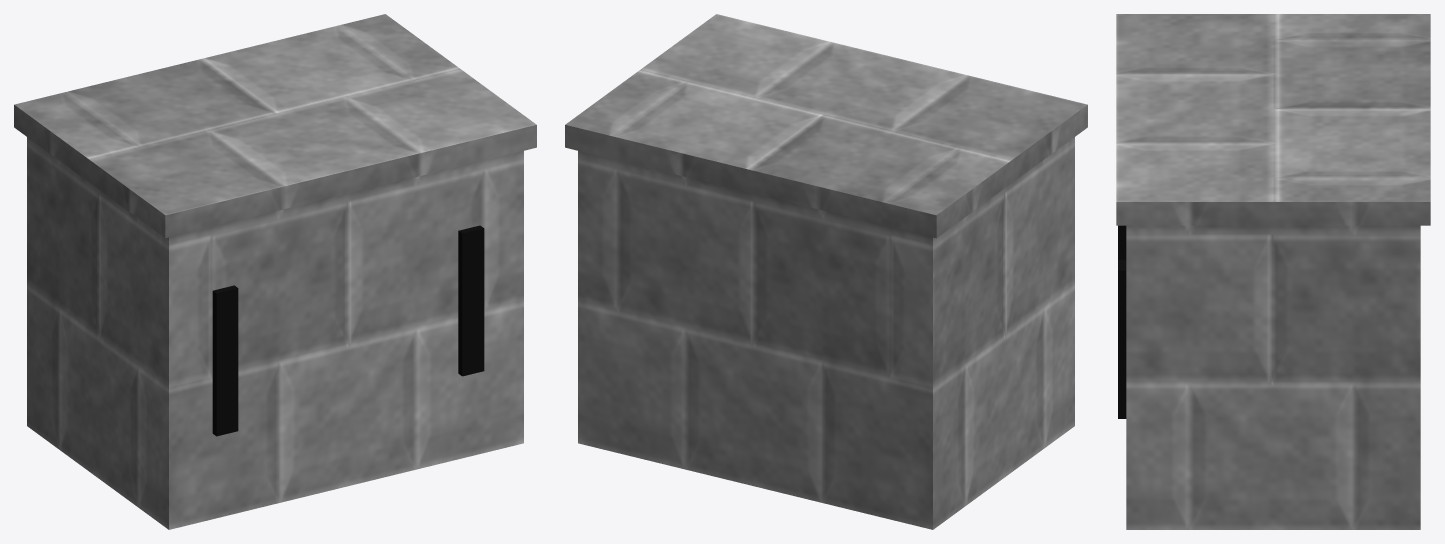
Rendered from crate.obj.
3 renders of one model, left to right at view 1: azimuth 30°, elevation 25°; view 2: azimuth 150°, elevation 25°; view 3: azimuth 270°, elevation 25°, orthographic. The views are drawn at different scales.
Bounding box in the file's own units: 1.36 × 1.12 × 0.96.
3 materials, 2 textured.
